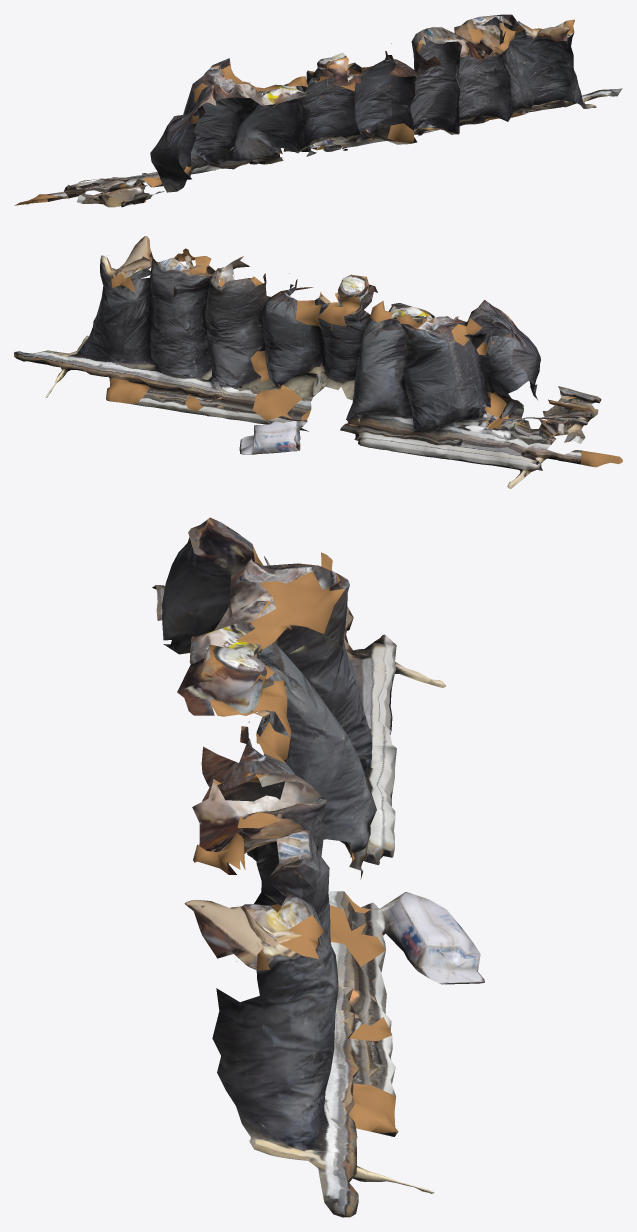
File: garbae.fbx
3 renders of one model, top to bottom at view 1: azimuth 30°, elevation 25°; view 2: azimuth 150°, elevation 25°; view 3: azimuth 270°, elevation 25°, orthographic. The views are drawn at different scales.
Visible parts, largest first — view 1: GarbageQueen_HP001; view 2: GarbageQueen_HP001; view 3: GarbageQueen_HP001.
Part boxes in pixels (box(x1,y1,x2,y2)): GarbageQueen_HP001: box(14, 14, 622, 207); GarbageQueen_HP001: box(14, 236, 622, 488); GarbageQueen_HP001: box(152, 517, 484, 1217).
Size of the model in its own units: 1344 by 322 by 321.
1 material, 1 textured.
